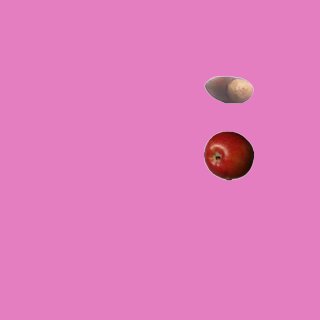Apple Braeburn: (203, 130, 253, 180)
Hazelnut: (203, 64, 253, 114)
